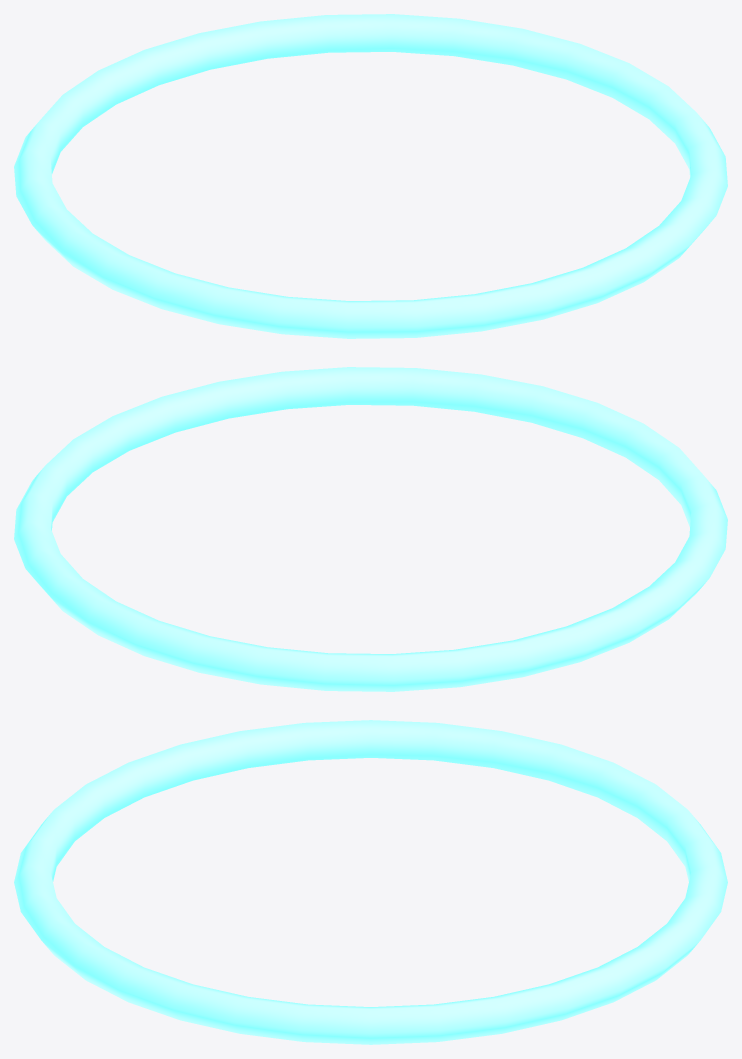
Rendered from CR-fx_ring.glb.
3 renders of one model, top to bottom at view 1: azimuth 30°, elevation 25°; view 2: azimuth 150°, elevation 25°; view 3: azimuth 270°, elevation 25°, orthographic.
Visible parts, largest first — view 1: fx_ring; view 2: fx_ring; view 3: fx_ring.
Part boxes in pixels (box(x1,y1,x2,y2)): fx_ring: box(14, 14, 727, 338); fx_ring: box(14, 367, 727, 691); fx_ring: box(14, 720, 727, 1044).
Bounding box in the file's own units: 1.06 × 0.0571 × 1.06.
